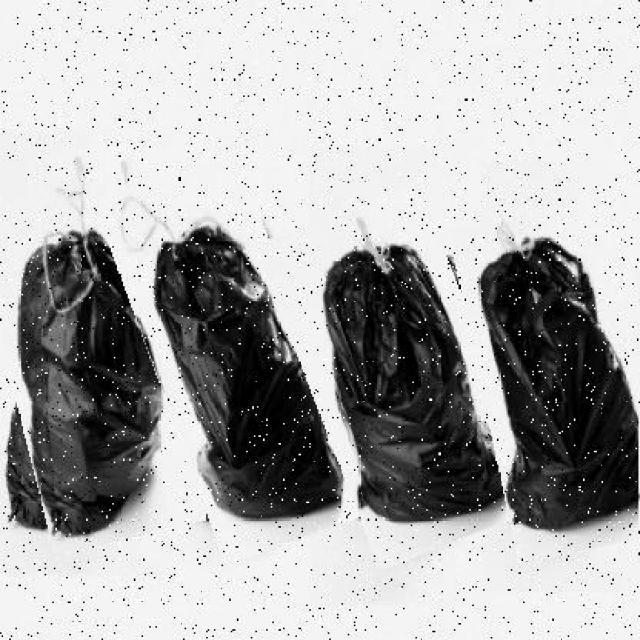waste: (284, 193, 514, 561), (127, 159, 338, 558), (0, 146, 186, 551), (464, 203, 638, 557)
